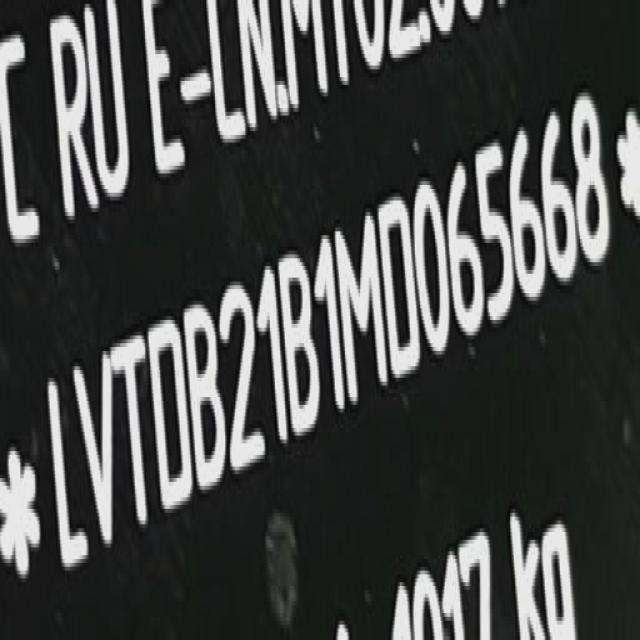0: (414, 179, 455, 367)
1: (316, 230, 350, 423), (257, 265, 291, 455)
2: (223, 289, 264, 477)
5: (477, 135, 517, 326)
6: (447, 151, 488, 341), (510, 117, 550, 307), (543, 98, 582, 288)
8: (572, 92, 614, 273)
B: (188, 301, 233, 497), (282, 249, 324, 441)
D: (147, 316, 193, 516), (384, 192, 424, 386)
L: (42, 364, 83, 574)
M: (339, 207, 391, 401)
T: (110, 330, 154, 543)
V: (72, 352, 121, 562)
